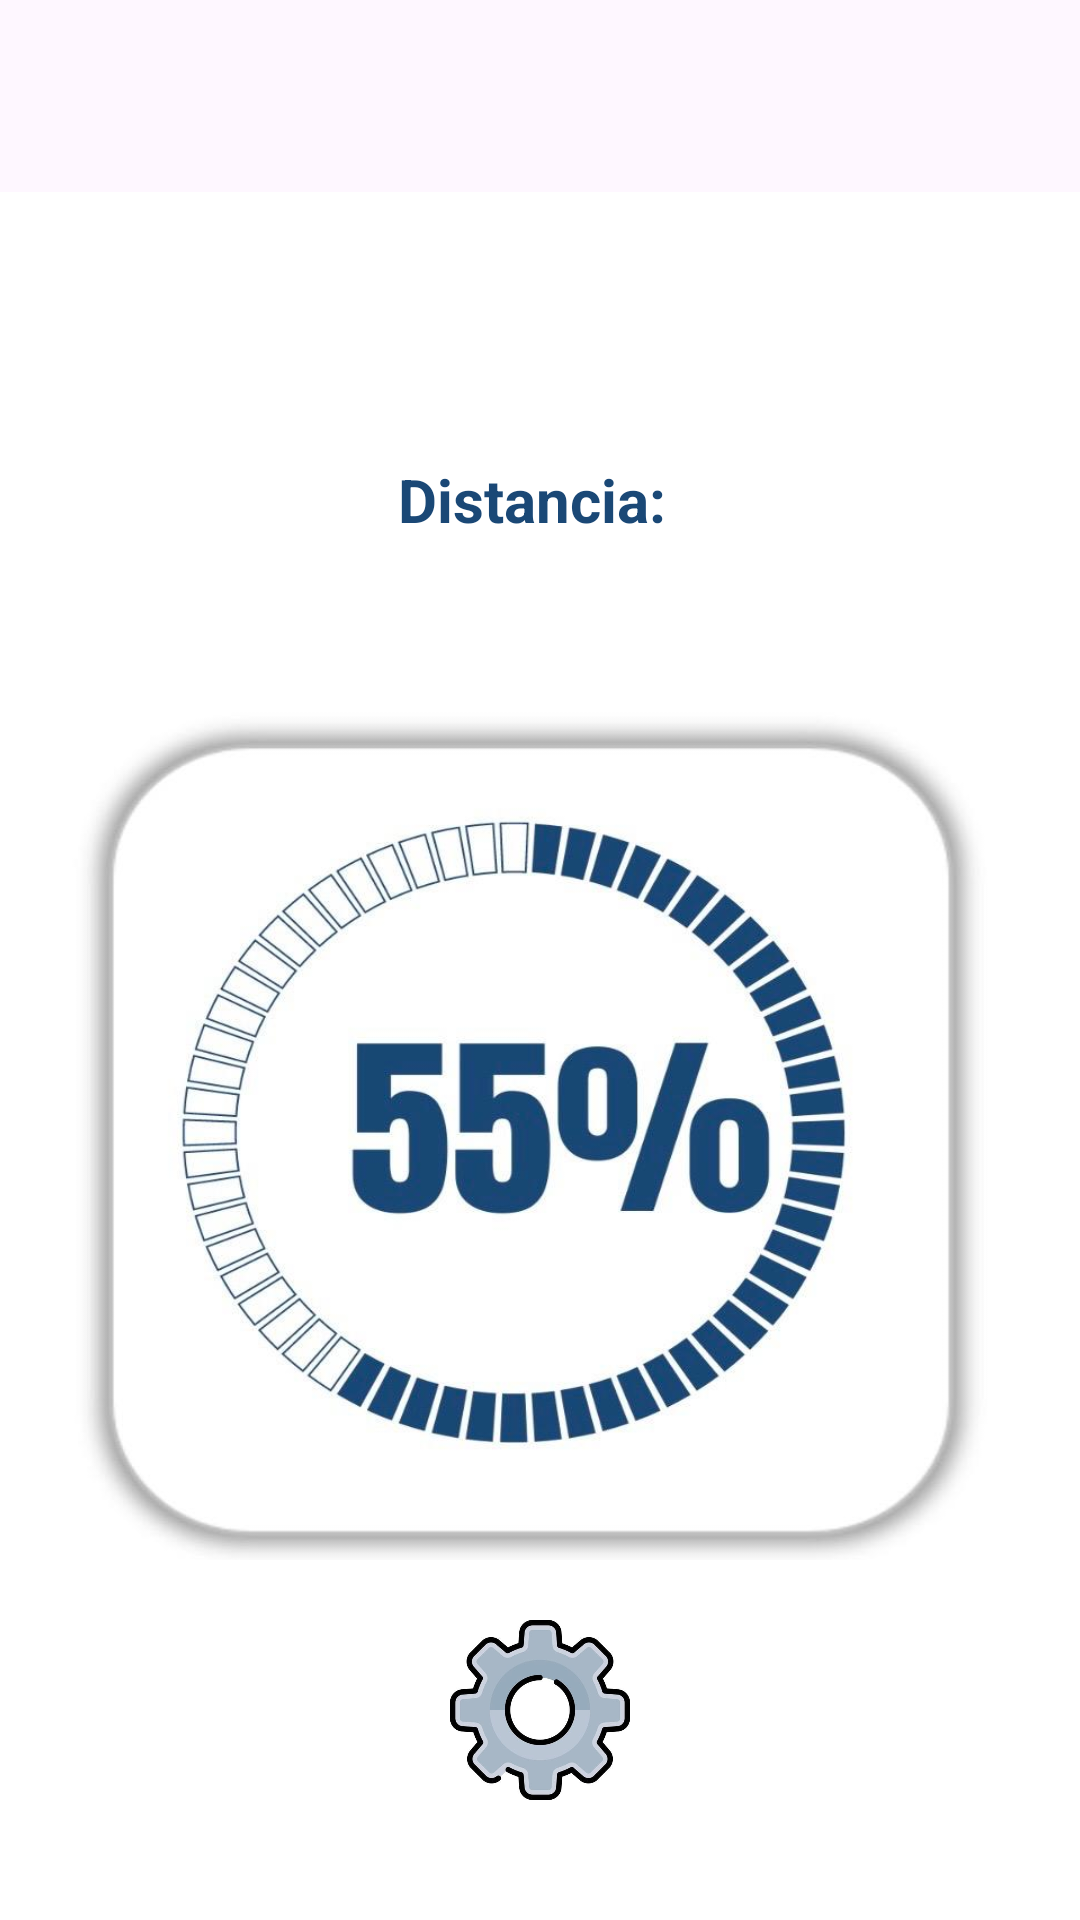

Icons on this 1080*1920 Android screen, each with the point to tap as point (x, y):
configuracion: point (540, 1710)
